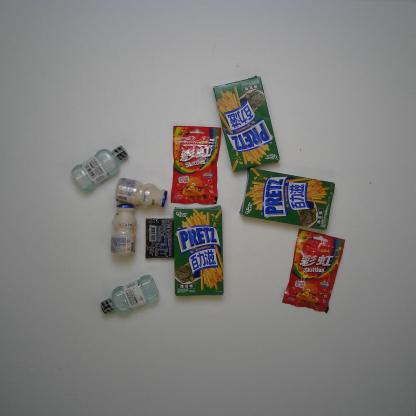Candy: (163, 124, 223, 211), (285, 226, 342, 317)
Dessert: (166, 203, 234, 301), (212, 73, 280, 171), (238, 168, 336, 228)
Gum: (142, 216, 178, 263)
Milk: (108, 174, 171, 212), (107, 204, 144, 258)
Personal Hygiene: (71, 144, 128, 193), (99, 276, 162, 320)
